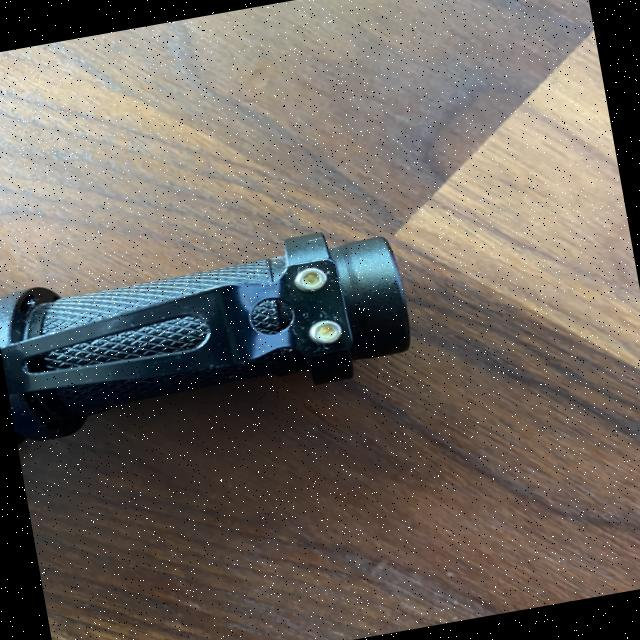Hex Socket Allen: (292, 264, 328, 292), (307, 318, 343, 346)
